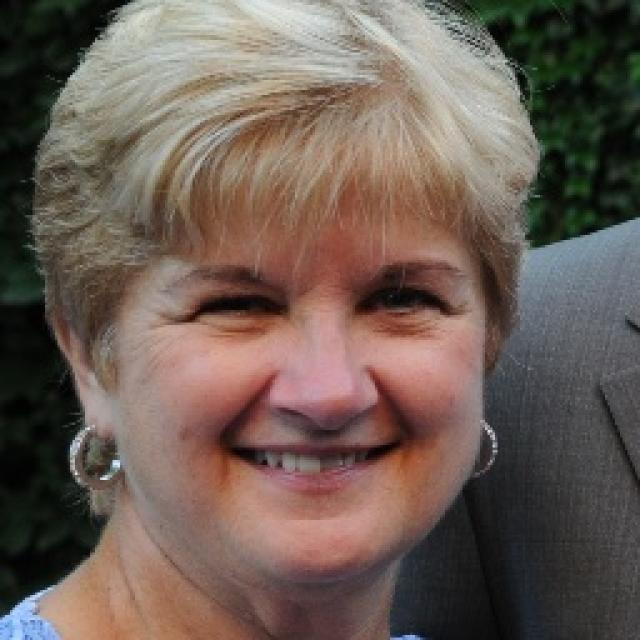earlobe: (80, 374, 115, 439)
eye: (357, 280, 441, 316), (196, 294, 280, 321)
nose: (266, 402, 385, 475)
wholeear: (46, 292, 116, 440)
